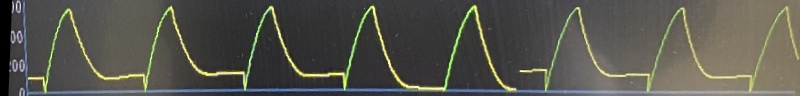leakage: (39, 0, 794, 96)
